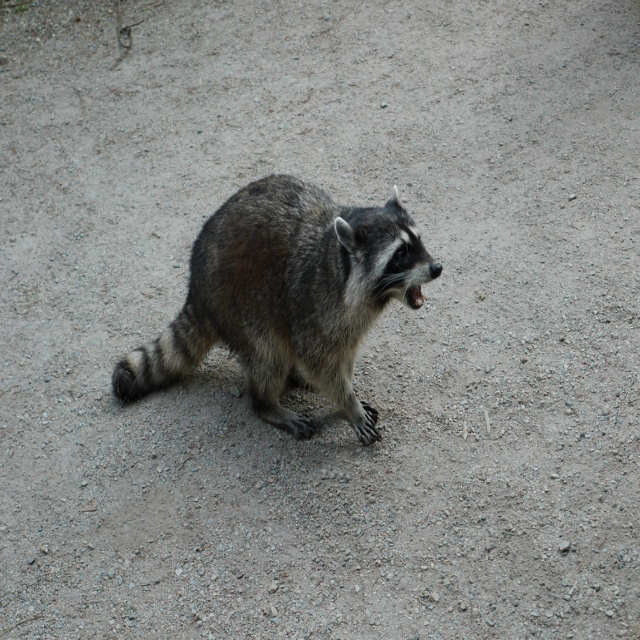Raccoon: (114, 171, 444, 447)
